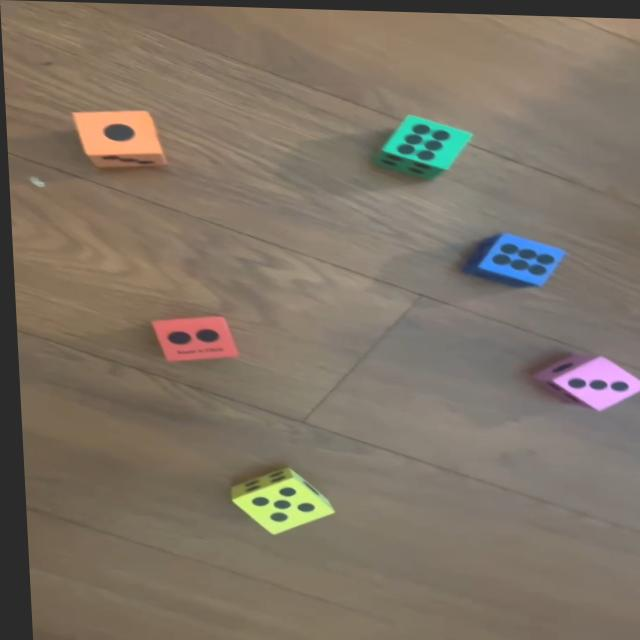blue_block: (465, 229, 567, 285)
red_block: (148, 312, 236, 364)
